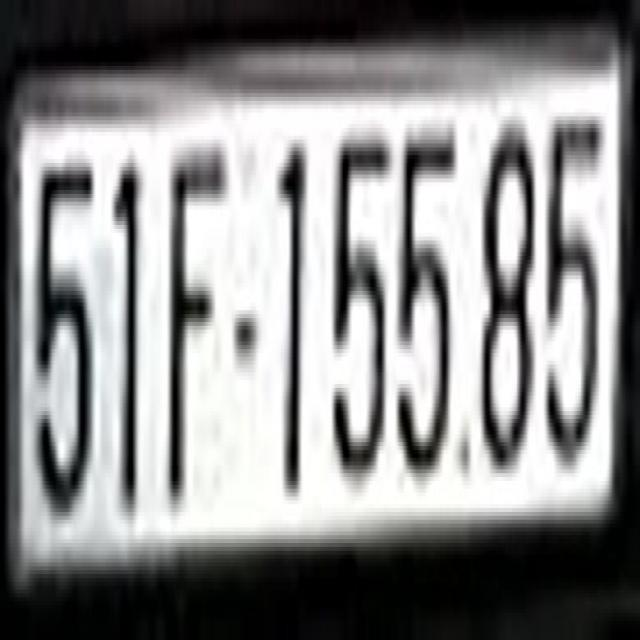1: (274, 140, 307, 512), (112, 182, 144, 504)
5: (398, 132, 454, 477), (552, 128, 602, 469), (39, 144, 87, 492), (338, 128, 387, 454)
8: (481, 112, 534, 458)
F: (168, 136, 227, 500)
